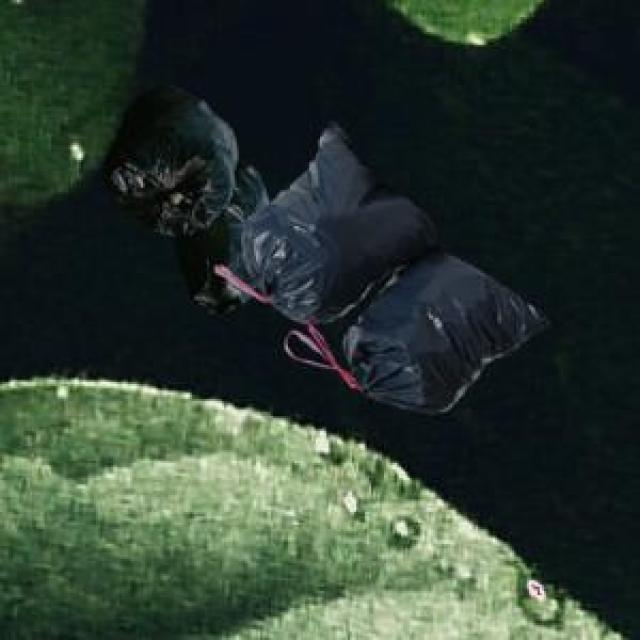Vinyl: (105, 88, 542, 412)
